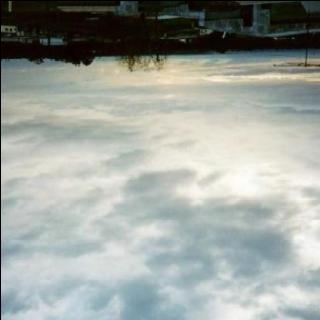Stratocumulus: (0, 56, 320, 320)
